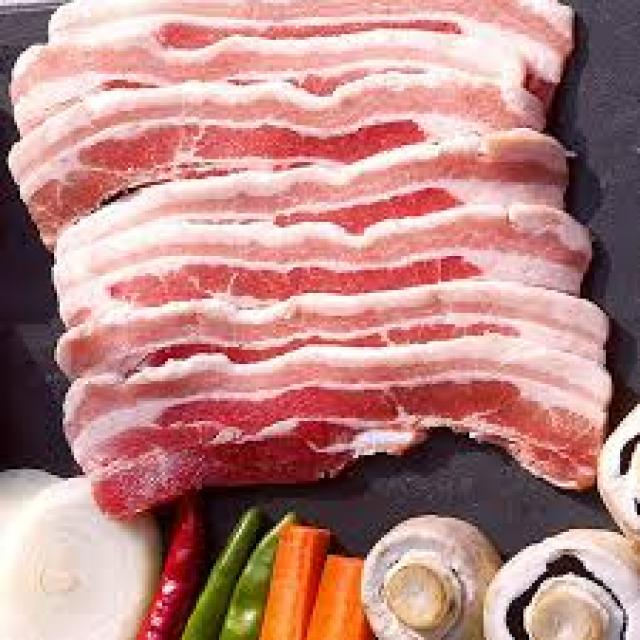pork: (65, 336, 614, 519)
